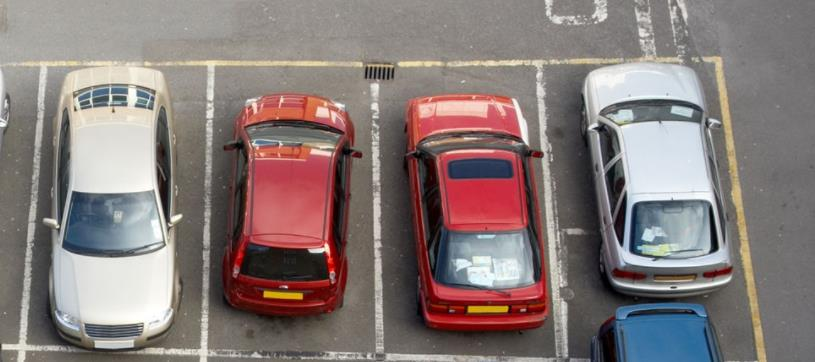car: (41, 65, 189, 354), (397, 87, 553, 334), (574, 58, 734, 297), (222, 90, 364, 320)
